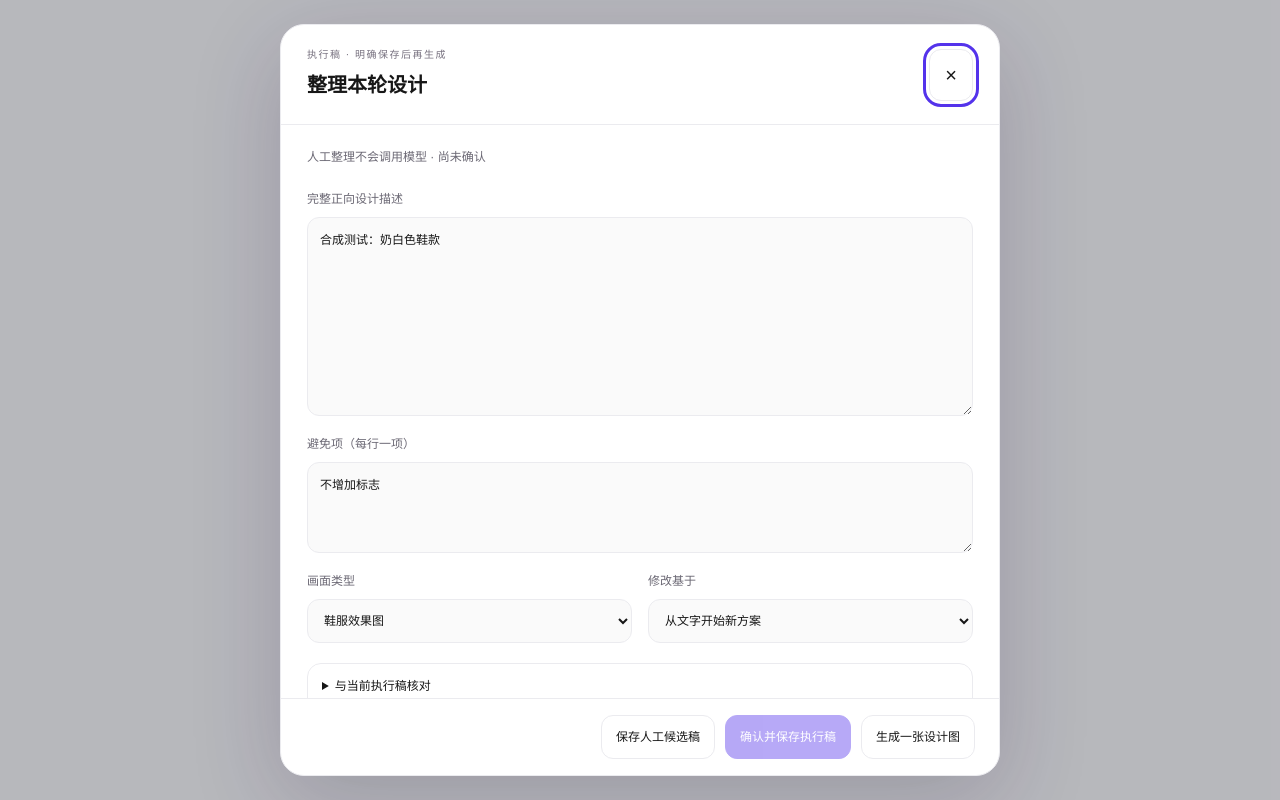
候选保存不确认或生图，确认按钮使用冻结manual稿
Click the button "保存人工候选稿": (658, 737) [601, 715, 715, 759]
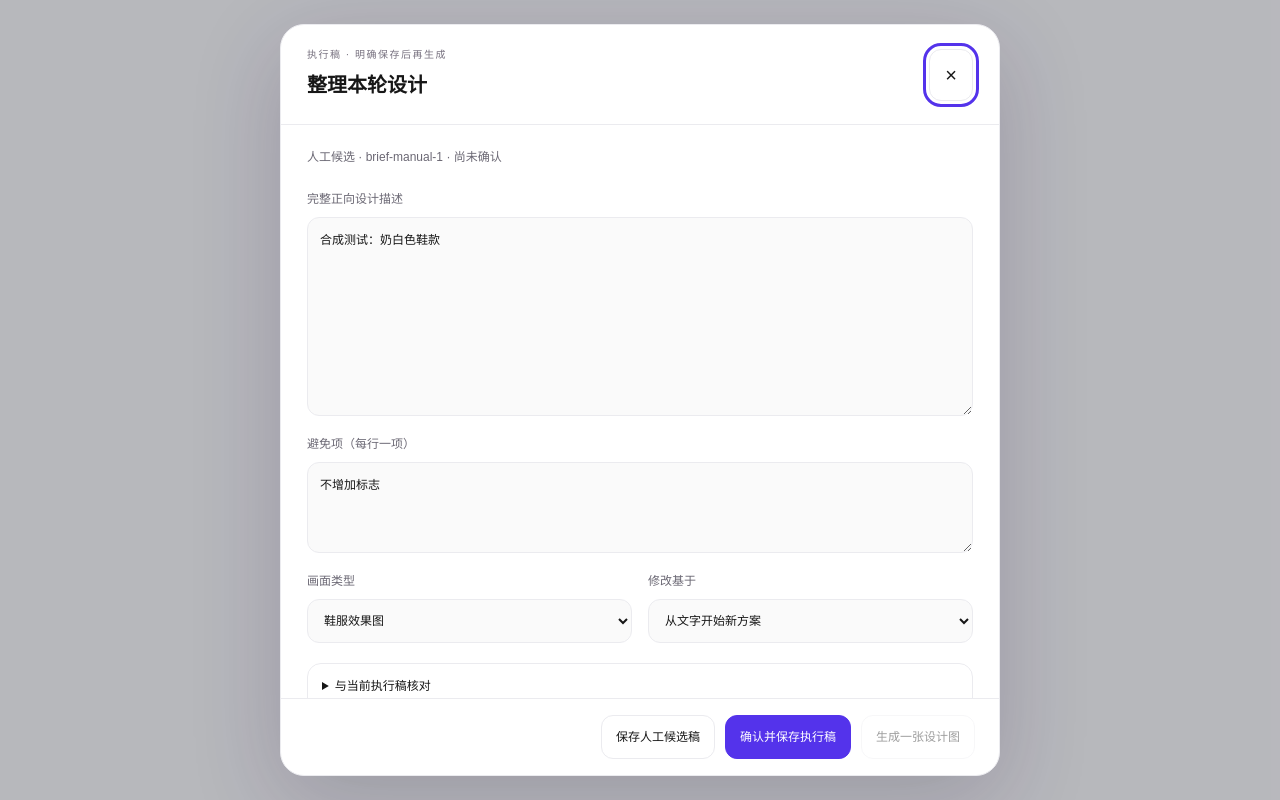
Click the button "确认并保存执行稿": (788, 737) [725, 715, 851, 759]
(page scrolled)
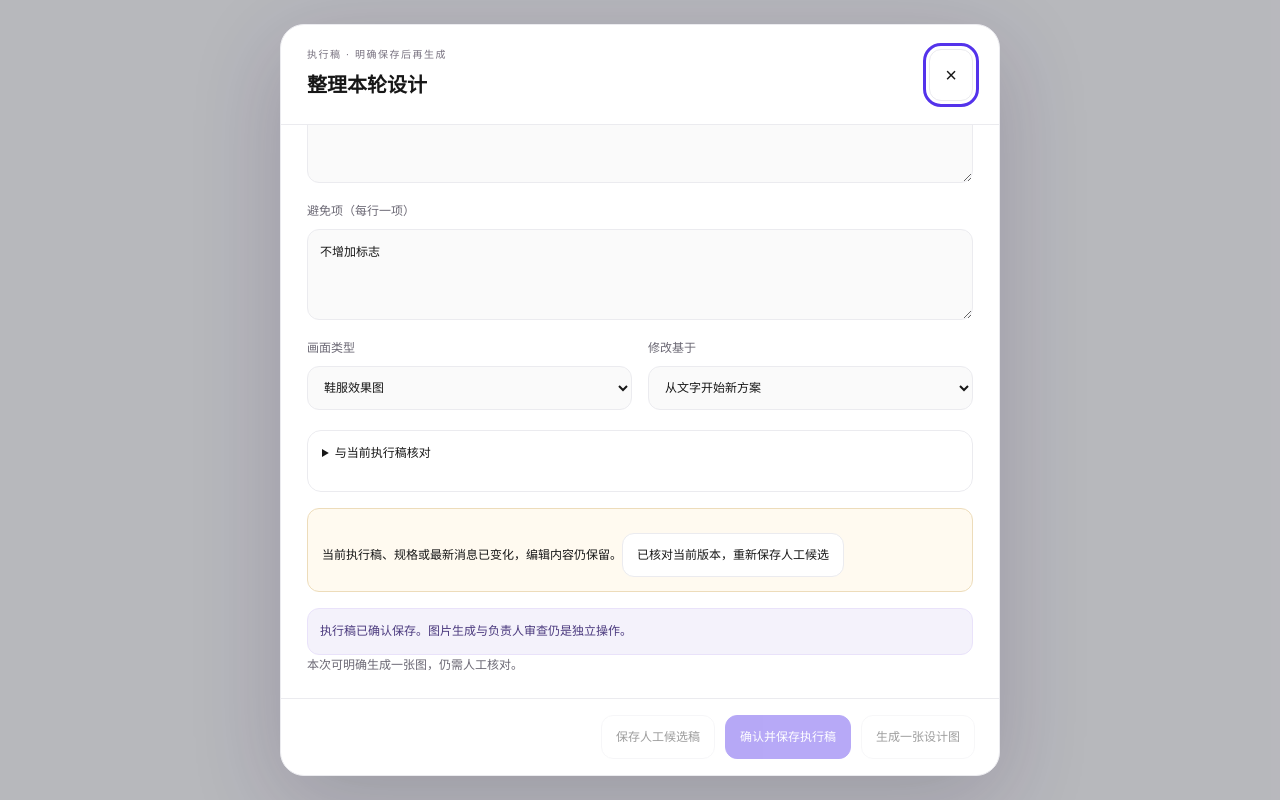
expect the text "执行稿已确认保存。图片生成与负责人审查仍是独立操作。" is shown: met, box [307, 608, 973, 655]
